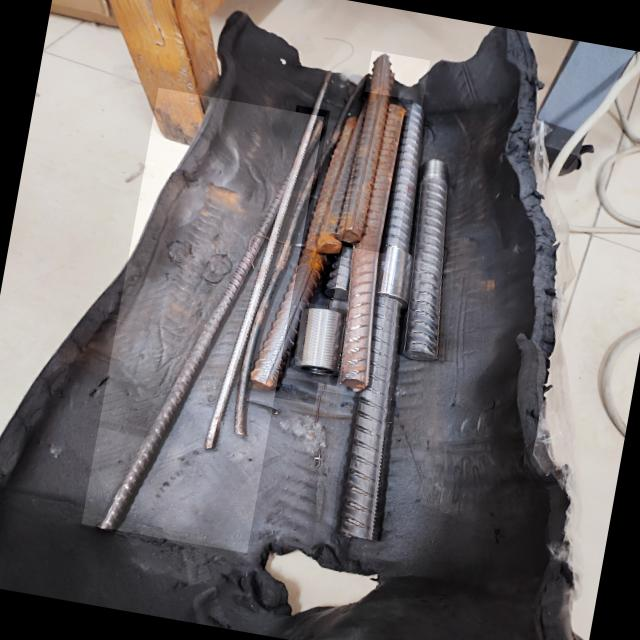Sleeve joint: (284, 300, 349, 386), (372, 240, 418, 309)
Welded link: (336, 90, 412, 254), (305, 106, 364, 255)
ribbed bar: (81, 88, 323, 552), (328, 100, 458, 548), (312, 51, 430, 400), (245, 105, 365, 404), (386, 151, 494, 368)
